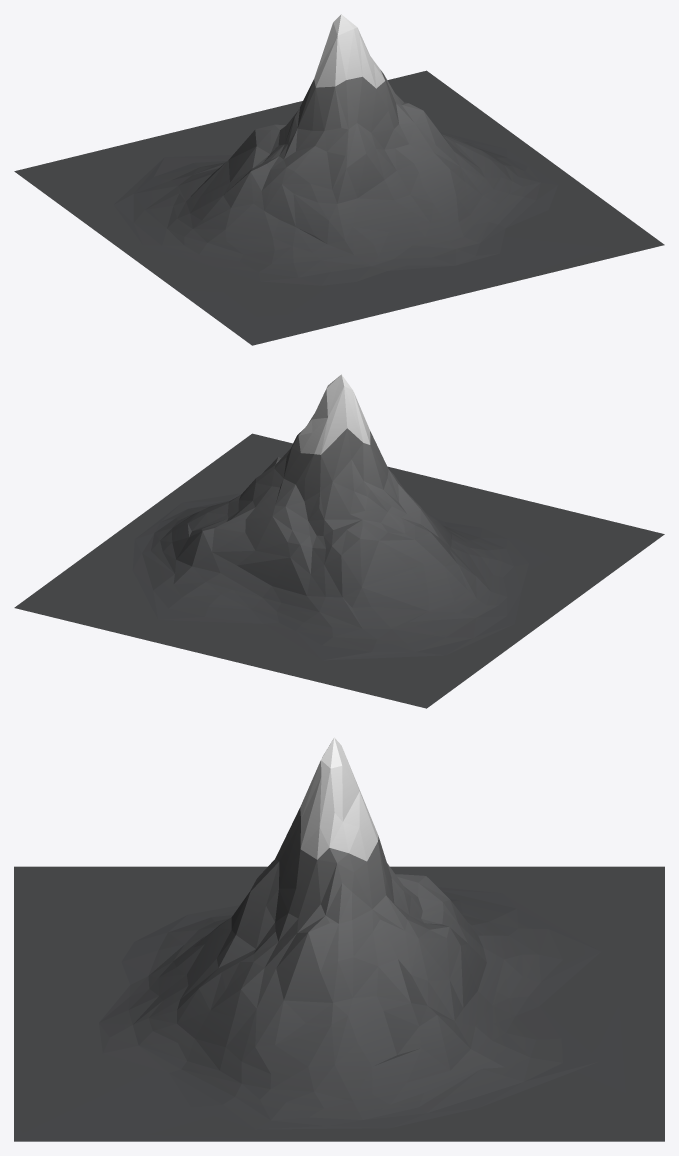
File: Mountains_04.fbx
The picture shows the model from 3 angles, top to bottom: view 1: azimuth 30°, elevation 25°; view 2: azimuth 150°, elevation 25°; view 3: azimuth 270°, elevation 25°; orthographic projection. The views are drawn at different scales.
Visible parts, largest first — view 1: Mountains_04; view 2: Mountains_04; view 3: Mountains_04.
Boxes of the visible parts, bbox=[...] form: Mountains_04: bbox=[14, 14, 664, 345]; Mountains_04: bbox=[14, 374, 664, 708]; Mountains_04: bbox=[14, 737, 664, 1141].
Size of the model in its own units: 25600 by 11581 by 25600.
